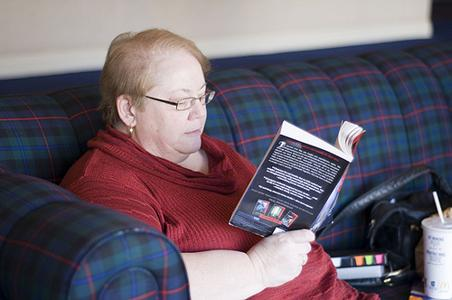person: (60, 32, 387, 300)
